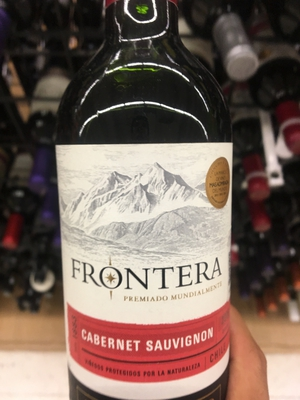frontera cabernet sauvignon: (54, 14, 241, 400)
